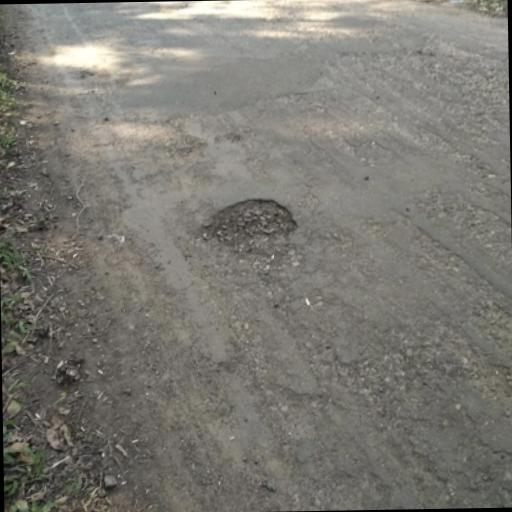pothole: (192, 194, 300, 252)
